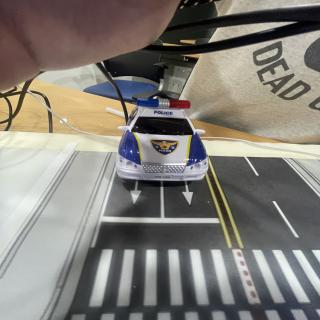Police_car: (116, 98, 208, 181)
